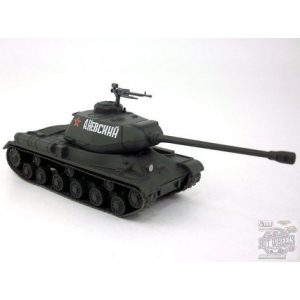Battle Tank: (1, 81, 297, 217)
